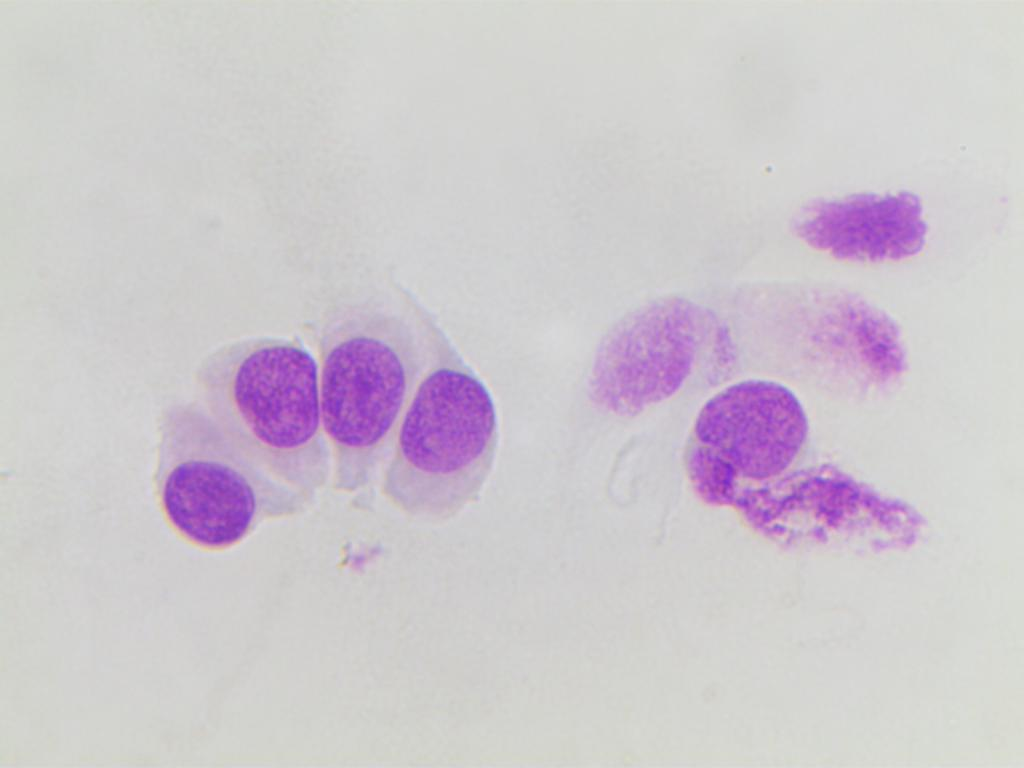epithelial: (396, 340, 515, 526), (115, 449, 288, 554), (210, 333, 324, 482), (577, 286, 692, 432), (326, 301, 405, 499), (685, 378, 814, 478)
